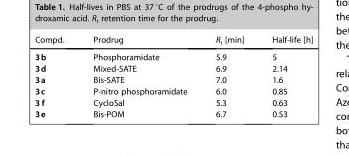table: (34, 34, 312, 118)
table column: (78, 34, 200, 118), (200, 34, 257, 118), (257, 34, 312, 118), (34, 34, 78, 118)
table column header: (34, 34, 312, 48)
table row: (34, 34, 312, 48), (34, 48, 312, 62), (34, 73, 312, 85), (34, 62, 312, 73), (34, 85, 312, 96), (34, 96, 312, 107), (34, 107, 312, 118)
